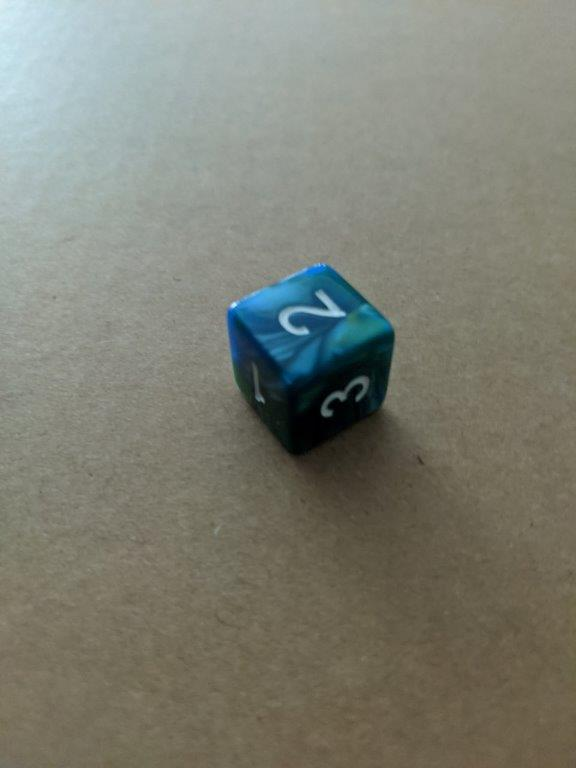d6-2: (227, 261, 395, 456)
